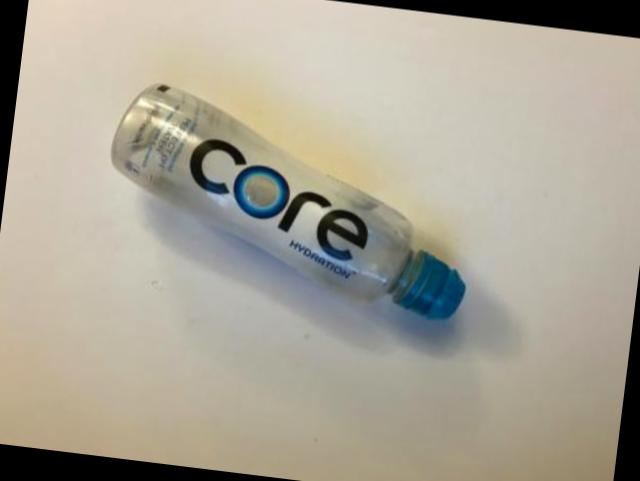plastic: (109, 82, 462, 315)
